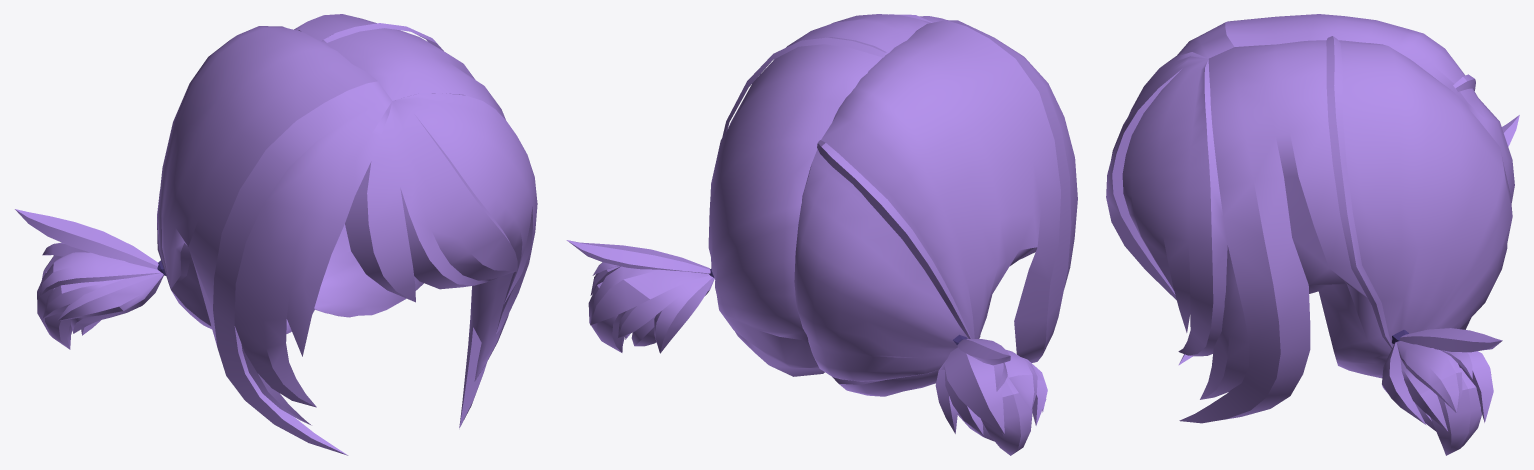
File: PigTails_Hair.fbx
The picture shows the model from 3 angles, left to right: view 1: azimuth 30°, elevation 25°; view 2: azimuth 150°, elevation 25°; view 3: azimuth 270°, elevation 25°; orthographic projection. The views are drawn at different scales.
Visible parts, largest first — view 1: PigTails_Hair; view 2: PigTails_Hair; view 3: PigTails_Hair.
Part boxes in pixels (x1,y1,x2,y2): PigTails_Hair: (15,14,537,455); PigTails_Hair: (566,14,1077,455); PigTails_Hair: (1106,14,1519,455).
Size of the model in its own units: 57.72 by 42.82 by 44.61.
